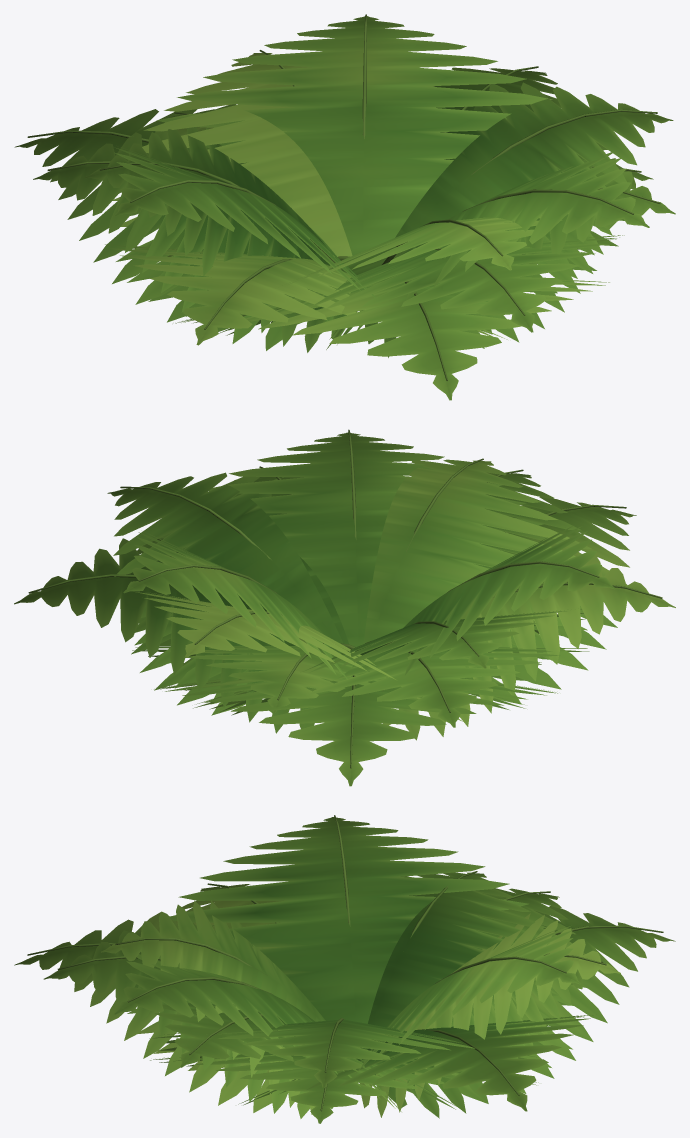
The model's file is PLN_Ferns_Large.fbx.
3 renders of one model, top to bottom at view 1: azimuth 30°, elevation 25°; view 2: azimuth 150°, elevation 25°; view 3: azimuth 270°, elevation 25°, orthographic. The views are drawn at different scales.
Parts seen in each view (by area): view 1: PLN_Ferns_Large; view 2: PLN_Ferns_Large; view 3: PLN_Ferns_Large.
Part boxes in pixels (x1,y1,x2,y2): PLN_Ferns_Large: [14, 14, 675, 400]; PLN_Ferns_Large: [14, 429, 675, 786]; PLN_Ferns_Large: [14, 815, 675, 1123].
Size of the model in its own units: 1.23 by 0.3738 by 1.44.
